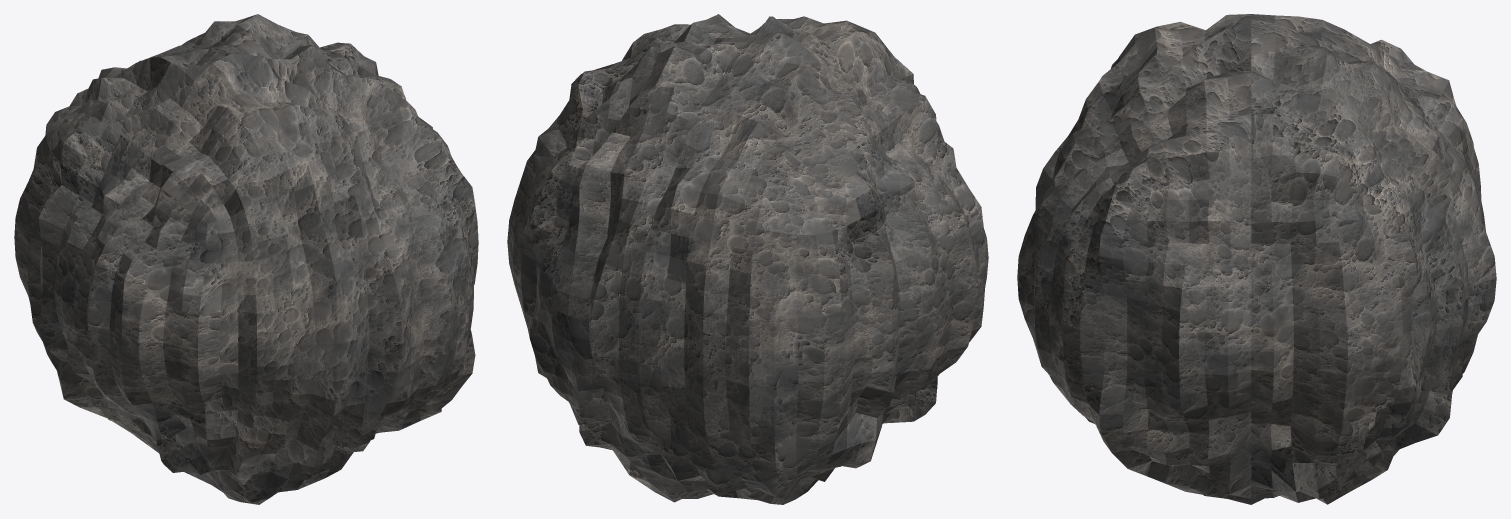
Rendered from asteroid193.obj.
3 renders of one model, left to right at view 1: azimuth 30°, elevation 25°; view 2: azimuth 150°, elevation 25°; view 3: azimuth 270°, elevation 25°, orthographic. The views are drawn at different scales.
Visible parts, largest first — view 1: Cube_Cube.002; view 2: Cube_Cube.002; view 3: Cube_Cube.002.
Part boxes in pixels (bbox=[...]): Cube_Cube.002: bbox=[14, 14, 478, 504]; Cube_Cube.002: bbox=[507, 14, 988, 504]; Cube_Cube.002: bbox=[1017, 14, 1496, 504].
Bounding box in the file's own units: 1.78 × 1.95 × 1.85.
